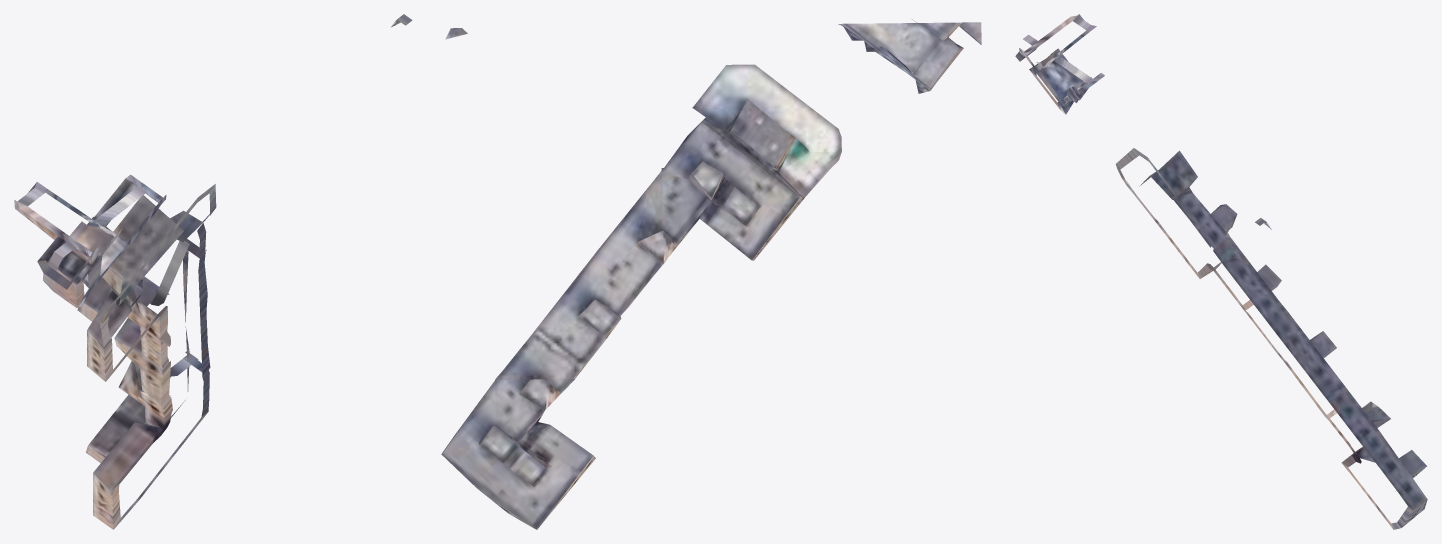
The picture shows the model from 3 angles, left to right: view 1: azimuth 30°, elevation 25°; view 2: azimuth 150°, elevation 25°; view 3: azimuth 270°, elevation 25°; orthographic projection. The views are drawn at different scales.
Size of the model in its own units: 103 by 105 by 97.36.
1 material, 1 textured.
